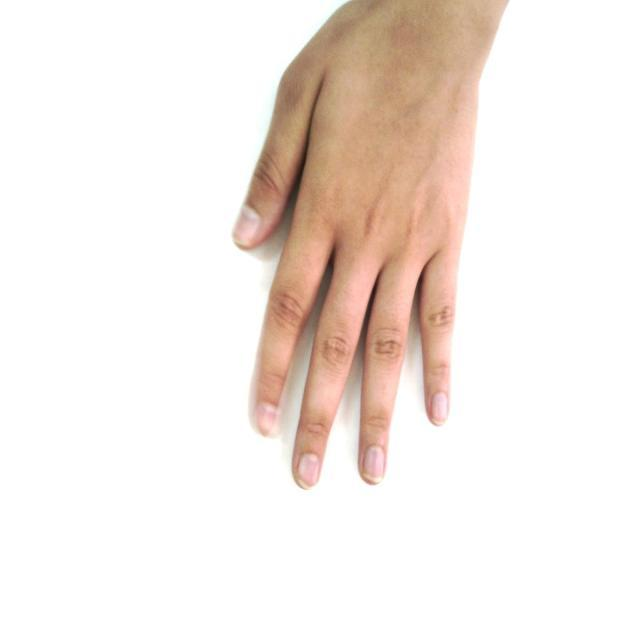Fingernail: (235, 207, 260, 242), (298, 454, 319, 487), (364, 446, 383, 480), (432, 392, 447, 423)
